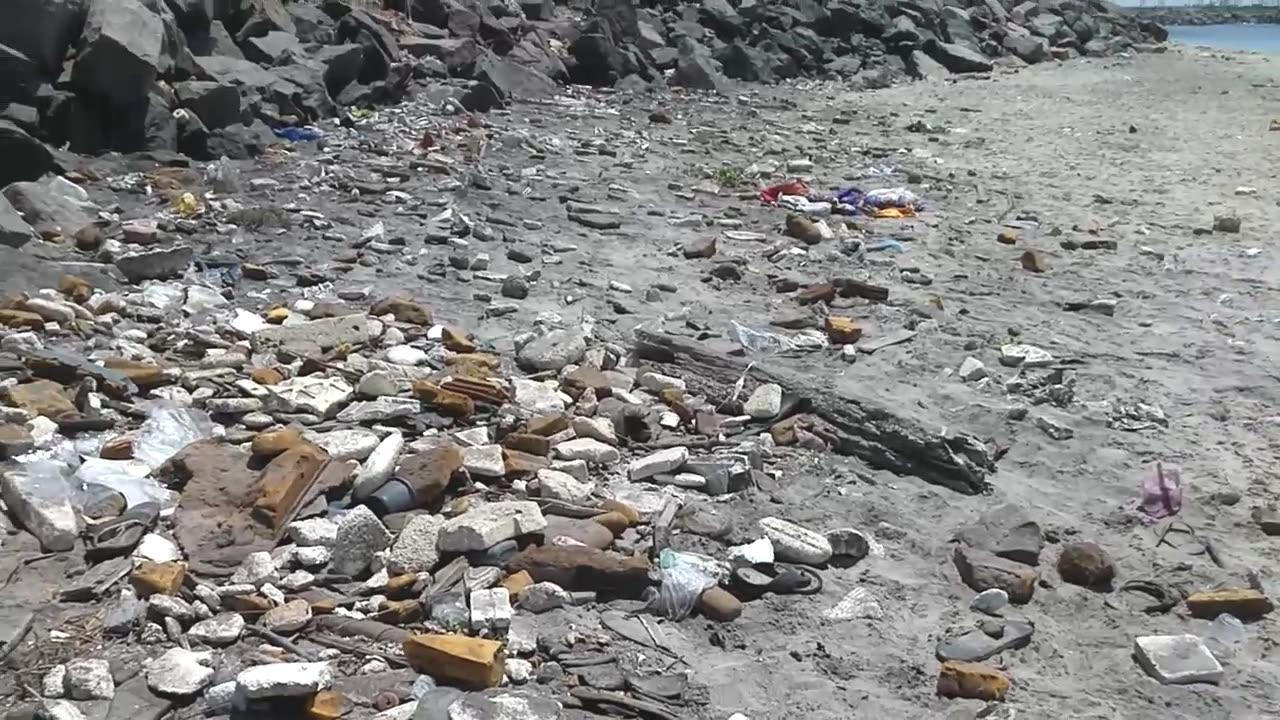large collection of objects: (252, 313, 368, 354)
obj: (630, 325, 1001, 492), (172, 432, 328, 589), (762, 182, 928, 218), (520, 547, 648, 592), (935, 615, 1033, 670), (84, 491, 160, 559), (402, 633, 502, 684), (950, 550, 1037, 606), (134, 406, 208, 469), (440, 352, 504, 402), (404, 450, 456, 505), (733, 562, 818, 594), (1060, 544, 1114, 592), (415, 379, 474, 416), (368, 294, 432, 325), (367, 478, 418, 516), (528, 414, 568, 439), (824, 315, 861, 342), (500, 274, 529, 298)
sand/background: (1, 0, 1279, 201)
